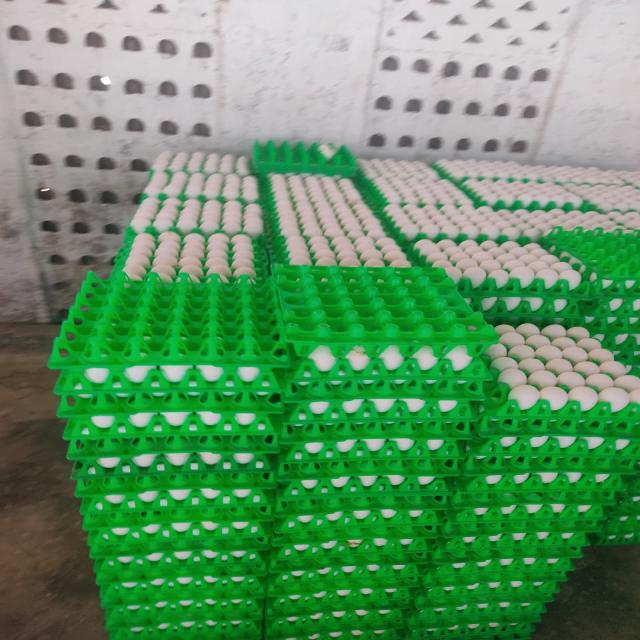egg_tray: (456, 334, 637, 530), (49, 276, 288, 404), (279, 398, 476, 515), (486, 324, 639, 470), (279, 400, 474, 513), (443, 425, 623, 538), (443, 426, 623, 538), (274, 266, 494, 357), (68, 434, 276, 528), (449, 424, 623, 536), (69, 434, 276, 528), (285, 345, 487, 439), (56, 362, 281, 446), (443, 449, 613, 560), (435, 468, 613, 571), (425, 504, 601, 606), (91, 523, 268, 618), (417, 532, 585, 626), (441, 470, 603, 562), (91, 536, 267, 618), (64, 392, 281, 458), (487, 324, 639, 414), (284, 344, 489, 410), (267, 531, 419, 616), (414, 239, 585, 313), (272, 176, 409, 266), (285, 362, 486, 420), (433, 528, 585, 603), (77, 463, 275, 520), (57, 370, 282, 418), (70, 438, 276, 488), (279, 400, 477, 451), (92, 529, 267, 586), (106, 576, 261, 640), (55, 358, 284, 401), (83, 509, 271, 560), (430, 570, 566, 640), (68, 433, 277, 478), (83, 508, 271, 558), (81, 478, 274, 526), (55, 358, 283, 398), (384, 204, 619, 242), (84, 510, 270, 558), (273, 495, 442, 546), (414, 239, 581, 290), (267, 560, 407, 618), (88, 514, 271, 558), (290, 344, 486, 384), (63, 410, 277, 446), (269, 174, 385, 240), (115, 231, 265, 282), (279, 438, 461, 480), (107, 594, 263, 640), (275, 474, 453, 514), (269, 551, 423, 597), (543, 228, 639, 301), (283, 398, 475, 434), (96, 546, 267, 586), (298, 554, 423, 608), (106, 594, 263, 636), (105, 598, 263, 638), (457, 470, 623, 508), (269, 557, 423, 596), (100, 572, 266, 608), (101, 573, 265, 608), (270, 535, 433, 570), (129, 196, 263, 238), (269, 560, 421, 596), (433, 531, 587, 564), (360, 160, 471, 205), (273, 516, 428, 548), (274, 231, 410, 267), (265, 606, 405, 640), (266, 586, 412, 618), (409, 602, 545, 636), (436, 160, 625, 184), (274, 234, 411, 267), (424, 557, 572, 586), (416, 576, 558, 606), (583, 298, 639, 374), (581, 292, 639, 365), (274, 520, 429, 547), (461, 178, 585, 210), (283, 474, 421, 502), (496, 208, 620, 239), (252, 140, 357, 176), (116, 508, 270, 532), (383, 204, 479, 242), (109, 616, 261, 640), (143, 172, 257, 203), (581, 294, 639, 352), (591, 474, 639, 544), (365, 176, 473, 206), (412, 601, 544, 625), (405, 617, 534, 640), (404, 618, 534, 640), (581, 297, 639, 346), (405, 618, 533, 640), (138, 561, 267, 582), (404, 620, 533, 640), (603, 474, 639, 543), (268, 622, 405, 640), (152, 151, 250, 176), (434, 159, 542, 181), (134, 396, 213, 426), (536, 166, 625, 190), (564, 184, 639, 212), (593, 333, 639, 374), (145, 562, 266, 577), (359, 158, 439, 180), (311, 622, 407, 640), (599, 334, 639, 375), (595, 506, 639, 543), (307, 456, 365, 480), (592, 516, 639, 545), (310, 143, 354, 171), (445, 516, 502, 537), (205, 620, 261, 640), (325, 592, 384, 608), (209, 601, 263, 618), (591, 525, 639, 544), (314, 630, 404, 640), (347, 626, 407, 640), (305, 143, 349, 162), (422, 460, 453, 486), (309, 143, 350, 161), (481, 581, 515, 600), (607, 210, 639, 230), (430, 585, 479, 597), (269, 626, 309, 640), (161, 406, 187, 426), (378, 460, 418, 473), (481, 581, 508, 600), (99, 570, 133, 585), (280, 601, 322, 612), (539, 564, 563, 582), (97, 402, 114, 426), (546, 424, 576, 437), (598, 474, 622, 490), (617, 171, 639, 186), (105, 566, 127, 580), (580, 514, 599, 530), (445, 598, 475, 608), (380, 597, 403, 610), (334, 541, 357, 554), (417, 596, 446, 606), (103, 572, 127, 584), (278, 464, 292, 484), (454, 494, 474, 508), (449, 575, 479, 584), (280, 630, 307, 640), (447, 598, 474, 607), (121, 582, 145, 592), (517, 581, 531, 598), (85, 518, 99, 534), (129, 562, 145, 576), (237, 411, 254, 424), (353, 630, 379, 638), (172, 627, 188, 640), (519, 581, 531, 598), (171, 629, 189, 640), (455, 585, 477, 594), (544, 515, 557, 530), (504, 332, 520, 344), (171, 602, 190, 612), (123, 594, 142, 604), (501, 568, 518, 578), (199, 626, 213, 638), (274, 536, 290, 546), (165, 576, 181, 586), (353, 546, 367, 557), (365, 463, 376, 477), (105, 583, 127, 590), (380, 546, 397, 555), (207, 566, 226, 574), (232, 458, 251, 466), (351, 553, 366, 563), (318, 600, 333, 610), (325, 524, 334, 540), (388, 595, 401, 606), (363, 540, 385, 546), (543, 328, 557, 337), (403, 399, 417, 408), (434, 586, 454, 592), (441, 620, 448, 637), (236, 567, 253, 574), (141, 576, 154, 585), (333, 556, 347, 564), (197, 412, 212, 419), (114, 635, 135, 640), (248, 632, 261, 640), (370, 438, 383, 446), (502, 592, 515, 600), (121, 408, 138, 414), (617, 376, 627, 386), (312, 348, 321, 359), (412, 544, 424, 552), (485, 574, 500, 580), (301, 538, 316, 544), (138, 605, 149, 613), (525, 572, 536, 580), (594, 480, 606, 487), (463, 612, 477, 618), (319, 634, 333, 640), (529, 505, 541, 512), (505, 502, 512, 514), (90, 531, 99, 540), (143, 412, 152, 421), (493, 218, 503, 226), (519, 521, 526, 532), (299, 632, 308, 640), (521, 325, 530, 333), (411, 528, 419, 537), (224, 390, 233, 398), (294, 142, 303, 150), (222, 521, 232, 528), (211, 474, 221, 481), (126, 634, 137, 640), (498, 454, 509, 460), (229, 558, 240, 564), (194, 605, 207, 610), (172, 634, 188, 638), (454, 594, 463, 601), (475, 508, 487, 513), (319, 554, 331, 559), (211, 570, 221, 576), (159, 570, 169, 576), (139, 408, 149, 414), (305, 545, 317, 550), (157, 578, 169, 583), (547, 494, 554, 502), (385, 427, 391, 436), (467, 495, 473, 504), (119, 512, 128, 518), (229, 627, 235, 636), (500, 550, 509, 556), (202, 634, 215, 638), (467, 556, 480, 560), (219, 611, 226, 618), (325, 603, 332, 610), (319, 635, 335, 638), (496, 346, 502, 354), (514, 495, 522, 501), (604, 488, 610, 496), (209, 600, 221, 604), (397, 563, 402, 572), (483, 421, 487, 432), (521, 422, 527, 429), (263, 523, 269, 530), (589, 440, 596, 446), (203, 576, 209, 583), (460, 600, 467, 606), (132, 598, 139, 604), (631, 430, 636, 438), (237, 526, 247, 530), (405, 558, 415, 562), (169, 421, 177, 426), (282, 547, 292, 551), (297, 636, 307, 640), (425, 578, 430, 586), (514, 332, 523, 336), (191, 570, 197, 576), (436, 486, 442, 492), (361, 521, 368, 526), (239, 452, 250, 455), (203, 634, 211, 638), (215, 412, 219, 420), (387, 558, 395, 562), (557, 432, 565, 436), (258, 591, 262, 599), (147, 574, 152, 580), (203, 540, 210, 544), (345, 223, 350, 228), (632, 379, 637, 384), (175, 506, 180, 511), (254, 632, 259, 637), (174, 563, 179, 568), (351, 517, 356, 522), (529, 523, 534, 528), (467, 610, 475, 613), (154, 610, 160, 614), (457, 558, 465, 561), (440, 494, 446, 498), (391, 473, 399, 476), (171, 606, 179, 609), (95, 520, 101, 524), (281, 573, 287, 577), (447, 538, 455, 541), (584, 460, 588, 466), (531, 598, 543, 600), (461, 586, 467, 590), (520, 581, 526, 585), (175, 504, 181, 508), (523, 352, 530, 355), (159, 597, 166, 600), (261, 588, 264, 595), (539, 536, 542, 543), (281, 546, 286, 550), (169, 422, 174, 426), (258, 442, 262, 447), (335, 428, 339, 433), (323, 348, 328, 352), (505, 610, 515, 612), (354, 536, 364, 538), (230, 408, 235, 412), (198, 576, 203, 580), (369, 402, 374, 406), (351, 534, 361, 536), (488, 596, 493, 600), (167, 411, 173, 414), (333, 435, 339, 438), (583, 343, 589, 346), (503, 429, 509, 432), (584, 435, 590, 438), (204, 635, 210, 638), (253, 634, 259, 637), (237, 407, 243, 410), (185, 476, 188, 482), (505, 568, 508, 574), (220, 636, 228, 638), (285, 550, 289, 554), (283, 636, 287, 640), (545, 586, 549, 590), (415, 510, 419, 514), (221, 614, 225, 618), (610, 438, 614, 442), (249, 408, 253, 412), (419, 400, 423, 404), (455, 558, 463, 560), (387, 527, 391, 531), (379, 521, 383, 525), (392, 363, 397, 366), (247, 612, 250, 617), (201, 594, 206, 597), (163, 593, 168, 596), (158, 575, 163, 578), (509, 230, 512, 235), (379, 536, 384, 539), (598, 458, 601, 463), (574, 447, 579, 450), (385, 606, 390, 609), (469, 576, 472, 581), (566, 528, 573, 530), (94, 512, 101, 514), (241, 572, 248, 574), (182, 635, 189, 637), (182, 562, 189, 564), (221, 444, 227, 446), (399, 634, 403, 637), (544, 410, 548, 413), (594, 356, 598, 359), (131, 600, 134, 604), (191, 368, 194, 372), (209, 601, 213, 604), (405, 353, 409, 356), (563, 566, 565, 572), (445, 561, 449, 564), (609, 497, 613, 500), (192, 426, 195, 430), (207, 422, 213, 424), (115, 581, 119, 584), (89, 411, 93, 414), (141, 400, 143, 406), (461, 602, 465, 605), (515, 636, 521, 638), (489, 635, 493, 638), (344, 602, 347, 606), (425, 576, 428, 580), (496, 462, 499, 466), (514, 614, 517, 618), (485, 576, 491, 578), (469, 453, 473, 456), (401, 536, 413, 537), (419, 541, 423, 544), (225, 492, 229, 495), (228, 458, 230, 464), (254, 454, 258, 457), (494, 565, 496, 570), (241, 428, 246, 430), (159, 589, 164, 591), (167, 560, 172, 562), (548, 576, 553, 578), (95, 520, 100, 522), (471, 506, 476, 508), (165, 461, 167, 466), (76, 376, 79, 379), (582, 432, 591, 433), (307, 563, 310, 566), (462, 634, 465, 637), (114, 514, 117, 517), (359, 503, 362, 506), (369, 522, 372, 525), (443, 587, 452, 588), (260, 588, 263, 591), (159, 442, 161, 446), (529, 598, 533, 600), (512, 353, 516, 355), (523, 498, 527, 500), (575, 468, 579, 470), (237, 522, 241, 524), (123, 508, 125, 512), (259, 394, 263, 396), (461, 634, 465, 636), (328, 602, 330, 606), (372, 603, 374, 607), (395, 527, 399, 529), (275, 550, 279, 552), (547, 586, 549, 590), (603, 474, 607, 476), (423, 527, 427, 529), (275, 524, 277, 528), (617, 476, 619, 480), (209, 422, 216, 423), (528, 553, 535, 554), (233, 633, 235, 636), (375, 543, 377, 546), (334, 602, 337, 604), (549, 596, 551, 599), (501, 343, 503, 346), (554, 338, 557, 340), (543, 336, 549, 337), (536, 498, 539, 500), (497, 230, 499, 233), (285, 416, 287, 419), (434, 620, 437, 622), (205, 522, 208, 524), (580, 529, 586, 530), (409, 432, 412, 434), (158, 428, 161, 430), (221, 636, 227, 637), (431, 492, 434, 494), (156, 611, 159, 613), (227, 602, 230, 604), (141, 457, 144, 459), (141, 416, 143, 419), (71, 411, 77, 412), (365, 540, 367, 543), (354, 540, 357, 542), (414, 536, 417, 538), (238, 550, 241, 552), (396, 406, 399, 408), (447, 559, 450, 561), (221, 558, 223, 561), (619, 482, 621, 485), (525, 598, 528, 600), (560, 577, 563, 579), (469, 585, 471, 588), (129, 572, 132, 574), (416, 550, 419, 552), (171, 636, 176, 637), (485, 421, 486, 426), (326, 173, 331, 174), (296, 527, 301, 528), (419, 482, 424, 483), (171, 418, 173, 420), (123, 514, 125, 516), (159, 440, 161, 442), (549, 524, 551, 526), (503, 344, 505, 346), (575, 334, 577, 336), (515, 616, 517, 618), (550, 469, 552, 471), (219, 536, 221, 538), (223, 533, 227, 534), (218, 526, 220, 528), (211, 522, 213, 524), (141, 443, 143, 445), (156, 395, 160, 396), (452, 464, 454, 466), (158, 593, 160, 595), (257, 576, 259, 578), (141, 476, 145, 477), (94, 412, 96, 414), (355, 604, 357, 606), (335, 602, 337, 604), (225, 594, 227, 596), (304, 638, 306, 640), (517, 592, 519, 594), (436, 483, 440, 484), (399, 404, 401, 406), (379, 403, 381, 405), (617, 476, 619, 478), (497, 616, 499, 618), (211, 478, 213, 480), (495, 538, 499, 539), (551, 430, 553, 432), (471, 568, 473, 570), (591, 474, 593, 476), (441, 594, 443, 596), (451, 594, 455, 595), (497, 582, 499, 584), (417, 546, 419, 548), (237, 492, 239, 494), (352, 545, 355, 546), (230, 354, 233, 355), (614, 349, 617, 350), (227, 427, 230, 428), (228, 475, 231, 476), (452, 636, 455, 637), (514, 596, 515, 599), (149, 414, 150, 416), (178, 412, 180, 413), (557, 342, 558, 344), (527, 421, 528, 423), (593, 529, 595, 530), (493, 422, 494, 424), (196, 534, 197, 536), (603, 525, 605, 526), (564, 528, 565, 530), (572, 434, 574, 435), (176, 360, 177, 362), (362, 493, 363, 495), (489, 213, 490, 215), (291, 589, 293, 590), (425, 553, 427, 554), (231, 590, 232, 592), (319, 449, 321, 450), (347, 406, 348, 408), (469, 464, 470, 466), (429, 593, 430, 595), (262, 512, 263, 514), (140, 603, 141, 604), (496, 236, 497, 237), (249, 525, 250, 526), (609, 520, 610, 521), (400, 536, 401, 537), (209, 574, 210, 575), (218, 480, 219, 481), (167, 418, 168, 419), (356, 591, 357, 592), (316, 609, 317, 610), (351, 556, 352, 557), (345, 554, 346, 555), (396, 516, 397, 517), (498, 569, 499, 570), (512, 600, 513, 601), (478, 585, 479, 586), (248, 637, 250, 637), (196, 636, 197, 636), (412, 561, 413, 561), (369, 550, 370, 550), (301, 430, 301, 430), (279, 540, 279, 541), (250, 414, 252, 414), (309, 436, 310, 436), (389, 423, 390, 423), (381, 361, 383, 361), (361, 361, 361, 361), (512, 581, 515, 581), (493, 532, 495, 532), (496, 525, 497, 525), (520, 350, 524, 350), (509, 350, 510, 350), (561, 344, 561, 346), (567, 343, 567, 343), (580, 334, 581, 334), (560, 328, 561, 328), (299, 143, 299, 145), (241, 436, 241, 439), (147, 432, 147, 432), (489, 510, 490, 510), (592, 508, 594, 508), (132, 610, 135, 610), (203, 603, 203, 604), (313, 627, 314, 627), (305, 594, 308, 594), (61, 378, 64, 378), (283, 489, 283, 490), (299, 414, 299, 416), (494, 425, 495, 425), (438, 636, 440, 636), (448, 632, 450, 632), (176, 523, 178, 523), (525, 554, 534, 554), (234, 490, 240, 490), (523, 576, 523, 576), (496, 563, 497, 563), (163, 408, 163, 408), (561, 528, 561, 530), (536, 525, 539, 525), (499, 419, 503, 419), (416, 512, 417, 512), (237, 427, 237, 429), (159, 409, 159, 410), (423, 536, 423, 536), (376, 536, 378, 536), (349, 563, 350, 563), (404, 501, 405, 501), (418, 485, 419, 485), (401, 476, 415, 476), (221, 594, 221, 594), (194, 594, 195, 594), (103, 588, 104, 588), (203, 530, 205, 530), (240, 529, 241, 529), (239, 528, 239, 528), (187, 574, 188, 574), (229, 403, 232, 403), (241, 403, 241, 404), (523, 636, 527, 636), (507, 636, 511, 636), (469, 536, 472, 536), (96, 525, 98, 525), (510, 238, 512, 238), (201, 578, 201, 579), (368, 592, 371, 592), (319, 576, 319, 577), (393, 541, 395, 541), (406, 541, 408, 541), (289, 565, 290, 565), (343, 517, 343, 517), (201, 596, 203, 596), (229, 580, 229, 581), (306, 628, 308, 628), (183, 623, 183, 623), (401, 545, 401, 545), (215, 636, 223, 636), (254, 630, 255, 630), (187, 588, 187, 590), (158, 576, 162, 576), (202, 557, 203, 557), (160, 554, 161, 554), (587, 199, 587, 199), (459, 596, 459, 596), (551, 592, 552, 592), (445, 492, 445, 492), (297, 483, 299, 483), (321, 482, 321, 484), (480, 565, 481, 565), (626, 521, 627, 521), (621, 516, 627, 516), (196, 561, 197, 561), (592, 465, 593, 465), (607, 459, 608, 459), (538, 432, 539, 432), (316, 610, 317, 610), (347, 556, 348, 556), (396, 528, 398, 528), (323, 519, 323, 519), (343, 516, 343, 517), (451, 581, 453, 581), (555, 578, 556, 578), (475, 570, 476, 570), (543, 568, 543, 570), (539, 566, 539, 568), (582, 474, 587, 474), (374, 536, 375, 536), (460, 603, 461, 603), (500, 599, 501, 599), (507, 521, 507, 521), (465, 354, 465, 355), (549, 598, 550, 598), (485, 583, 485, 583), (256, 563, 257, 563), (102, 521, 104, 521), (263, 516, 263, 518), (98, 516, 100, 516), (283, 144, 283, 146), (419, 603, 422, 603), (261, 516, 261, 518)
